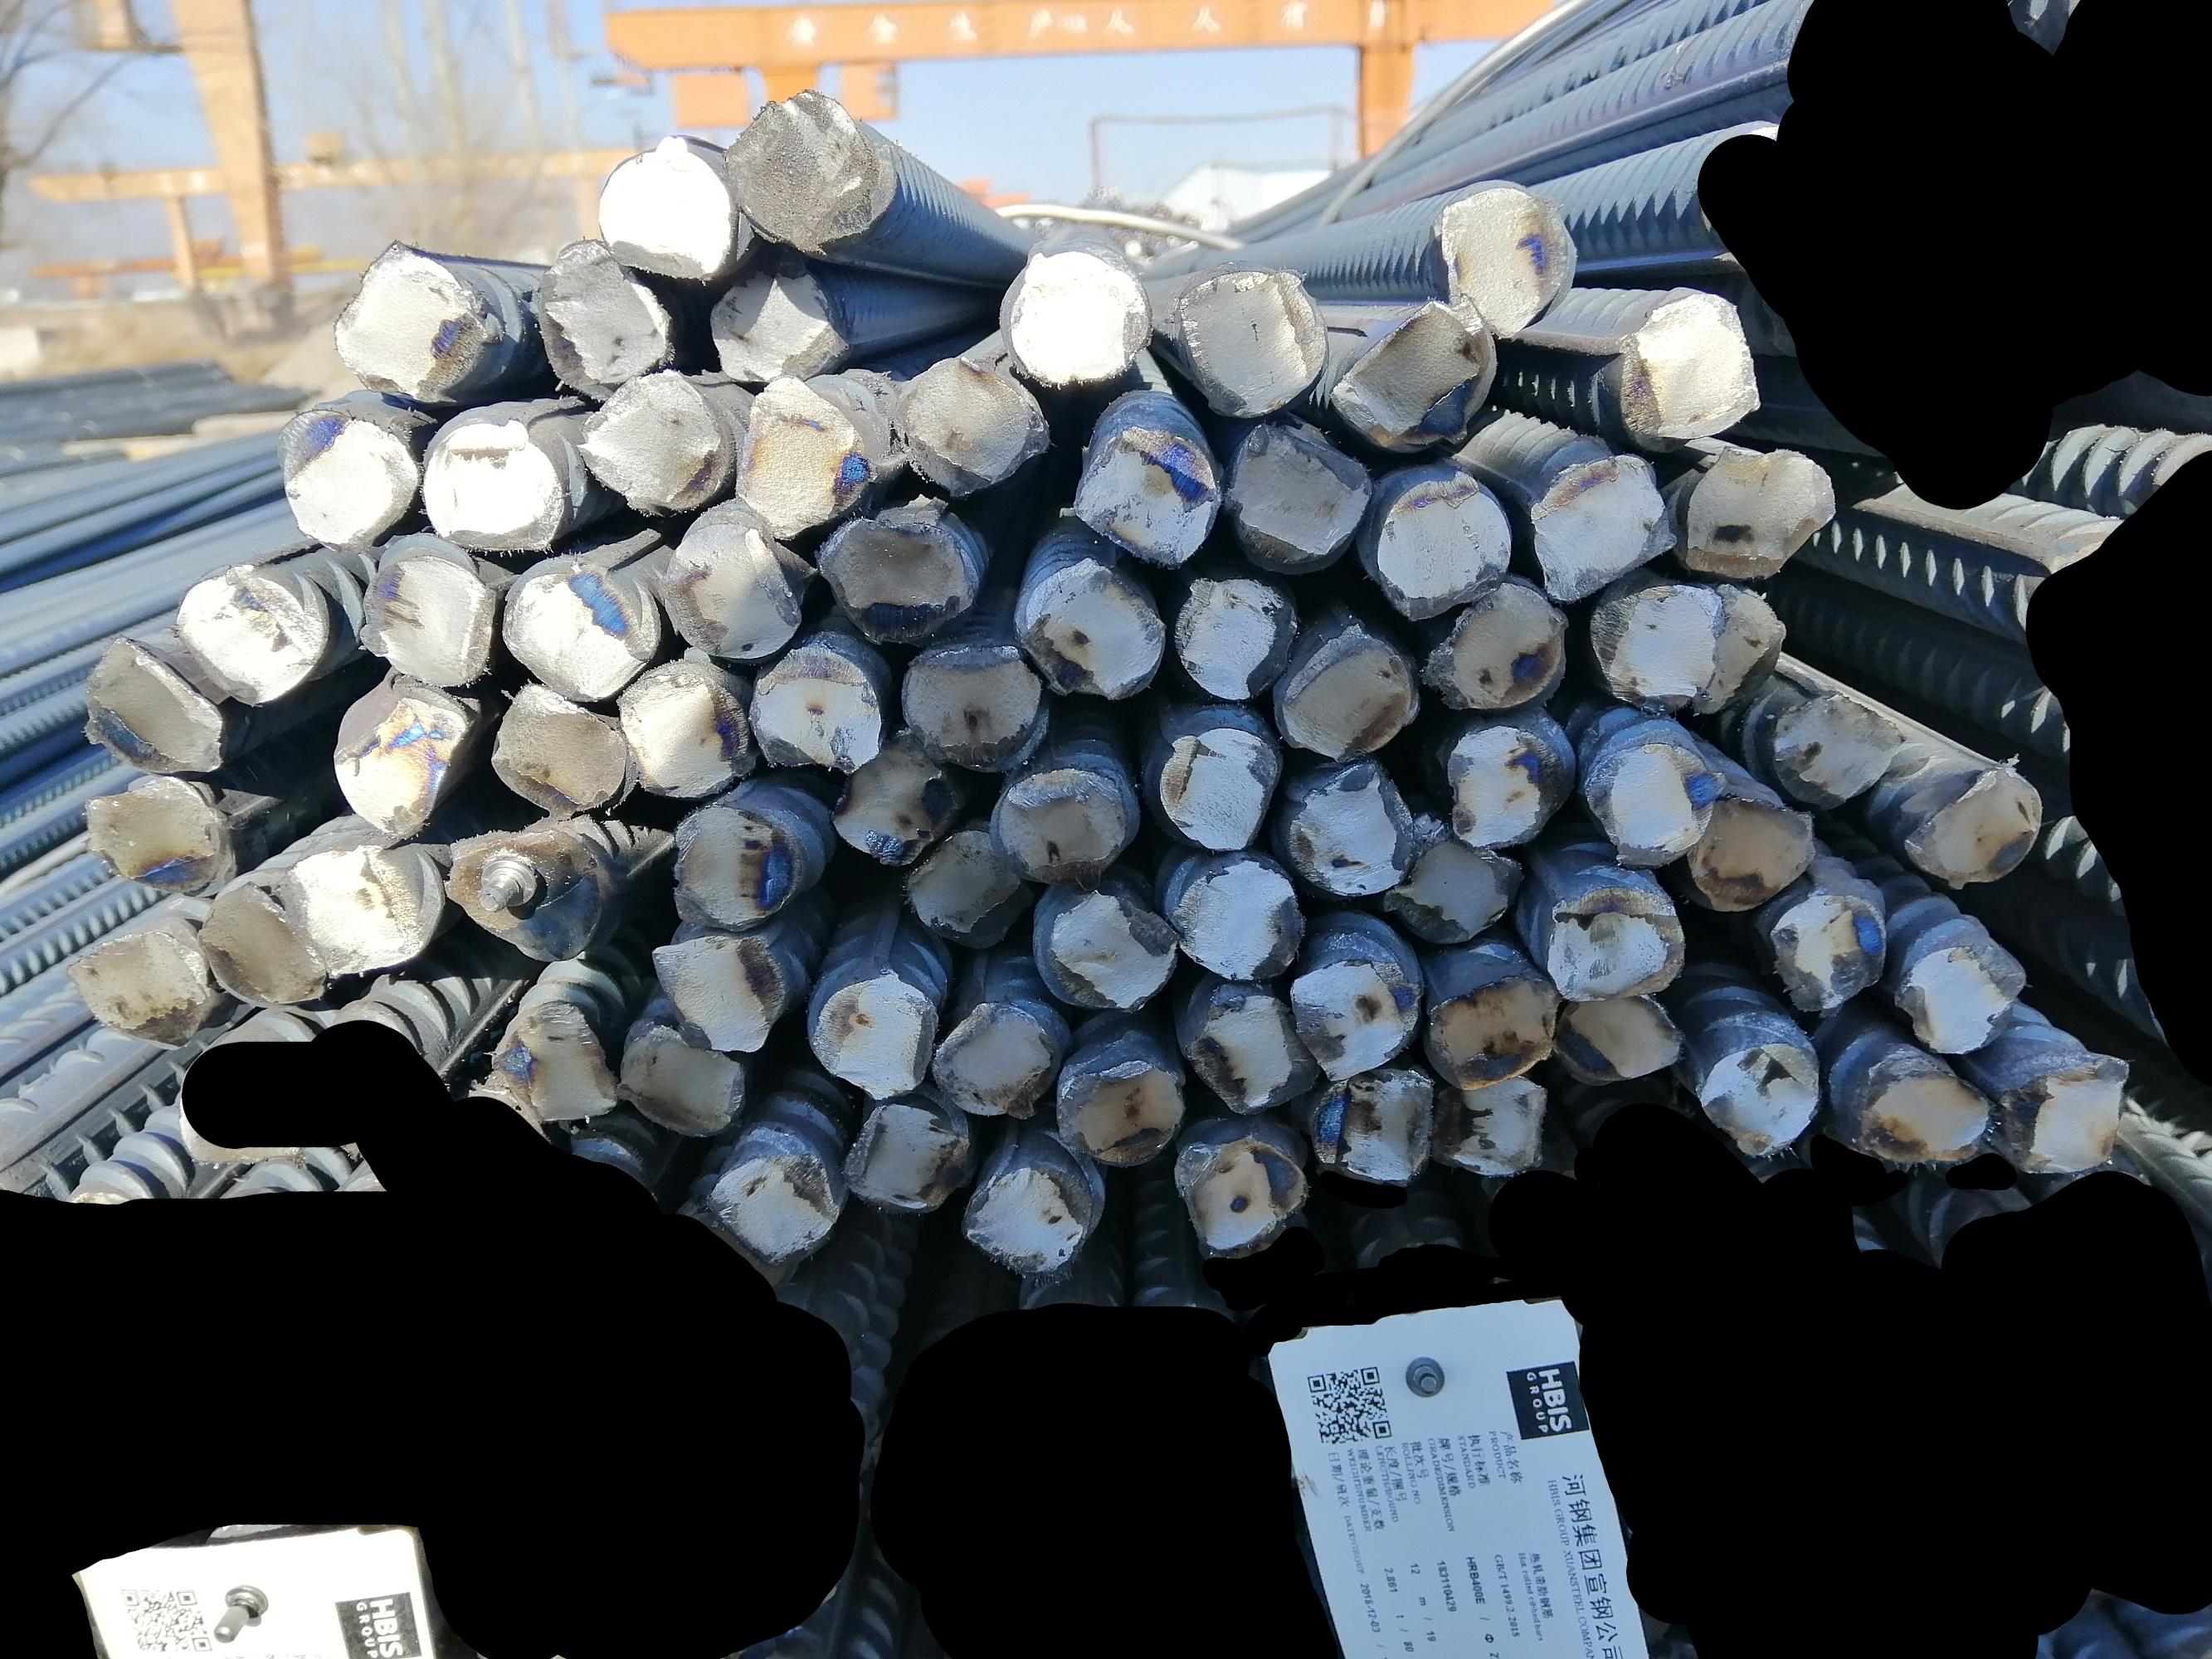bar: (328, 239, 492, 406), (718, 94, 884, 251), (1339, 298, 1501, 451), (1515, 444, 1672, 601), (1171, 260, 1323, 422), (1431, 183, 1583, 343), (1614, 284, 1766, 443), (328, 676, 474, 840), (523, 237, 675, 394), (725, 385, 875, 542), (570, 366, 722, 518), (267, 403, 420, 549), (1367, 469, 1513, 622), (281, 838, 436, 981), (75, 633, 232, 774), (506, 552, 650, 704), (598, 134, 743, 286), (816, 511, 973, 650), (444, 828, 607, 962), (1016, 554, 1161, 704), (1220, 416, 1370, 561), (1004, 244, 1150, 389), (891, 359, 1042, 497), (415, 418, 568, 554), (905, 631, 1049, 774), (180, 568, 326, 709), (664, 516, 804, 662), (1272, 612, 1410, 760), (1074, 416, 1210, 566), (614, 659, 757, 800), (1896, 756, 2052, 885), (75, 775, 232, 903), (950, 1140, 1089, 1281), (359, 549, 499, 690), (485, 676, 624, 817), (1429, 577, 1571, 716), (1686, 446, 1832, 579), (1581, 580, 1727, 713), (1163, 1134, 1318, 1258), (1682, 793, 1830, 920), (1288, 756, 1415, 903), (1381, 817, 1530, 941), (898, 821, 1034, 957), (702, 265, 847, 392), (987, 760, 1135, 884), (1578, 742, 1727, 864), (1544, 878, 1687, 1006), (1419, 969, 1565, 1093), (842, 1087, 971, 1227), (63, 924, 206, 1049), (1185, 986, 1321, 1117), (1443, 718, 1579, 849), (1766, 880, 1896, 1016), (488, 995, 622, 1126), (826, 748, 966, 873), (1171, 861, 1309, 986), (190, 880, 321, 1011), (1145, 727, 1279, 854), (1035, 889, 1175, 1011), (1168, 570, 1299, 699), (755, 640, 882, 772), (666, 802, 800, 927), (617, 1016, 751, 1141), (645, 934, 783, 1056), (2003, 1054, 2135, 1180), (702, 1145, 840, 1265), (812, 976, 941, 1103), (1281, 951, 1408, 1080), (1764, 694, 1912, 803), (1891, 931, 2019, 1058), (929, 993, 1055, 1122), (1855, 1058, 1999, 1169), (1698, 1035, 1823, 1157), (1055, 1054, 1185, 1171), (1309, 1063, 1433, 1185), (1551, 981, 1684, 1087), (1687, 584, 1792, 716), (1428, 1072, 1551, 1178)
